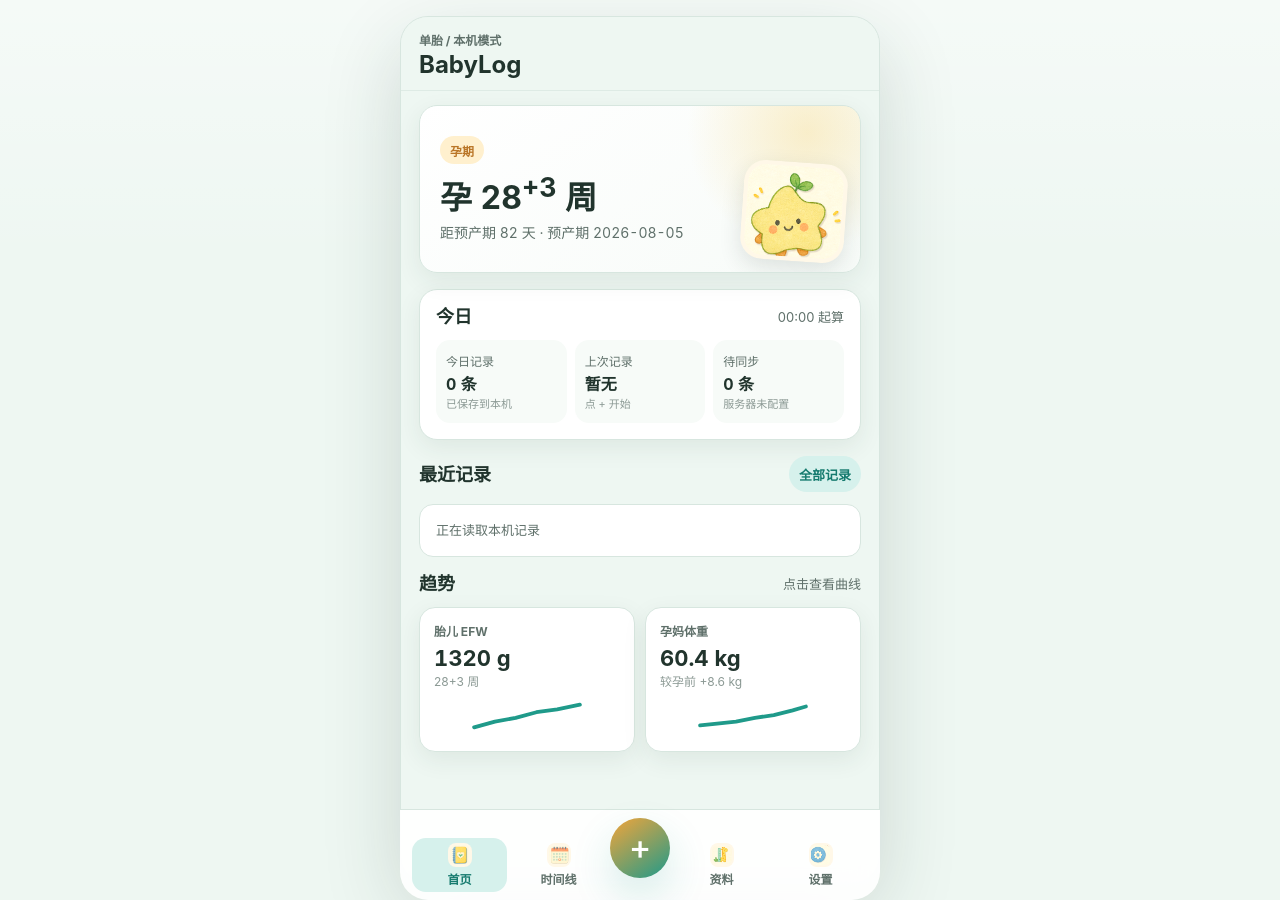
Test case: BabyLog UI shell › opens the quick record sheet from the center action
Click the button named "快捷记录".
click(640, 848)  # box left=610, top=818, right=670, bottom=878
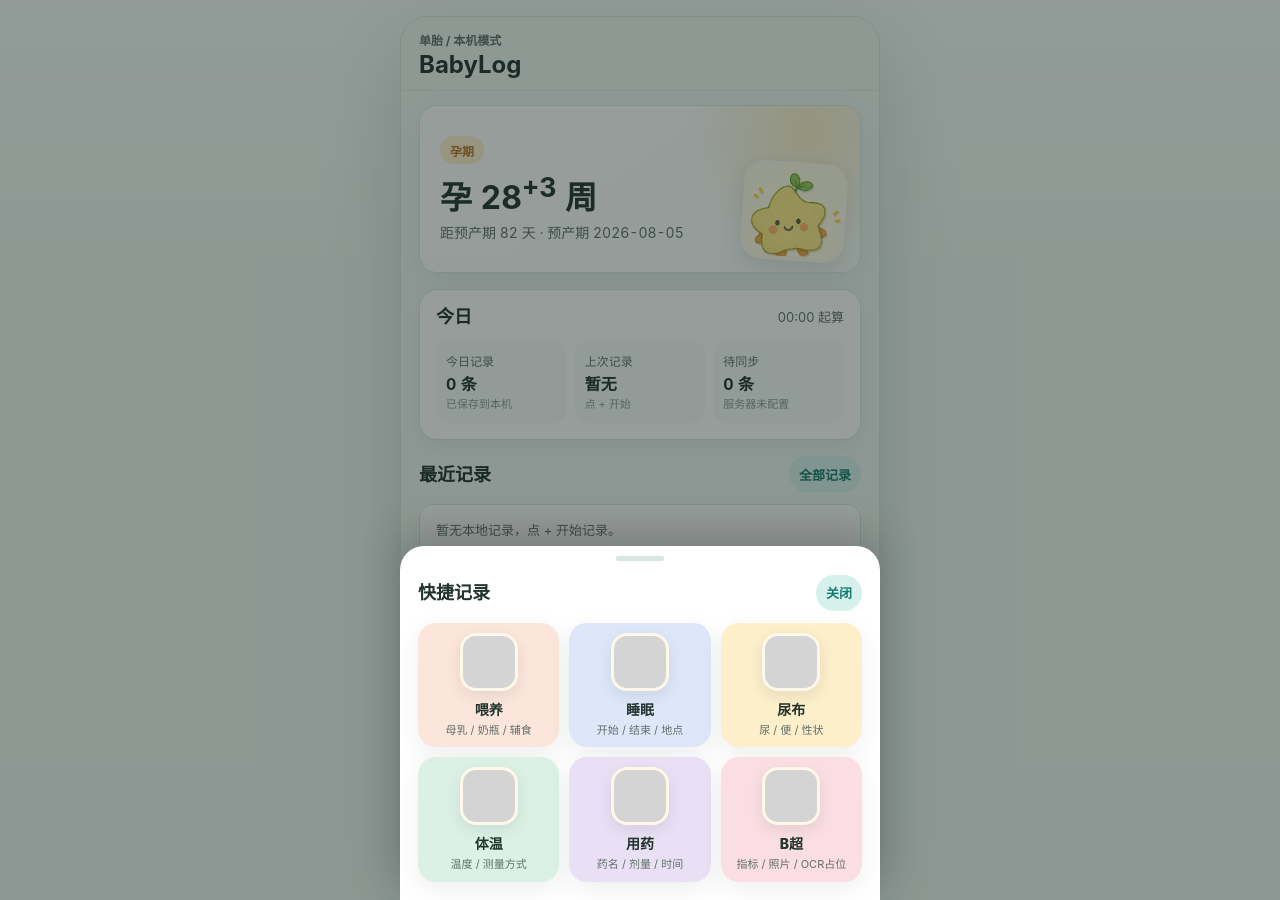
expect the dialog "快捷记录" is shown: met, box left=400, top=546, right=880, bottom=899
expect the button "喂养 母乳 / 奶瓶 / 辅食" is shown: met, box left=418, top=622, right=559, bottom=747
expect the button "睡眠 开始 / 结束 / 地点" is shown: met, box left=569, top=622, right=711, bottom=747
